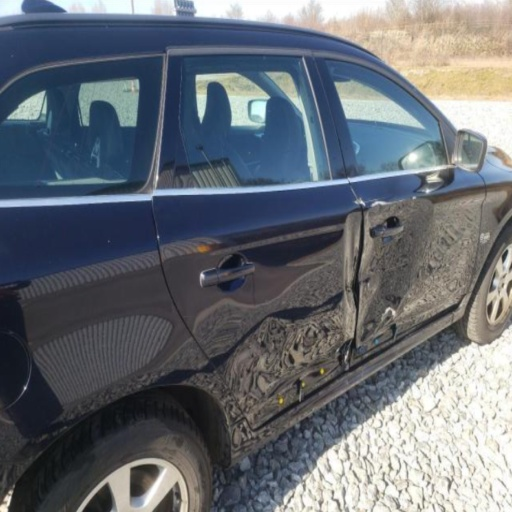dent: (191, 204, 425, 427)
scratch: (370, 198, 405, 208), (380, 306, 397, 326), (354, 195, 366, 207), (412, 196, 417, 200)
